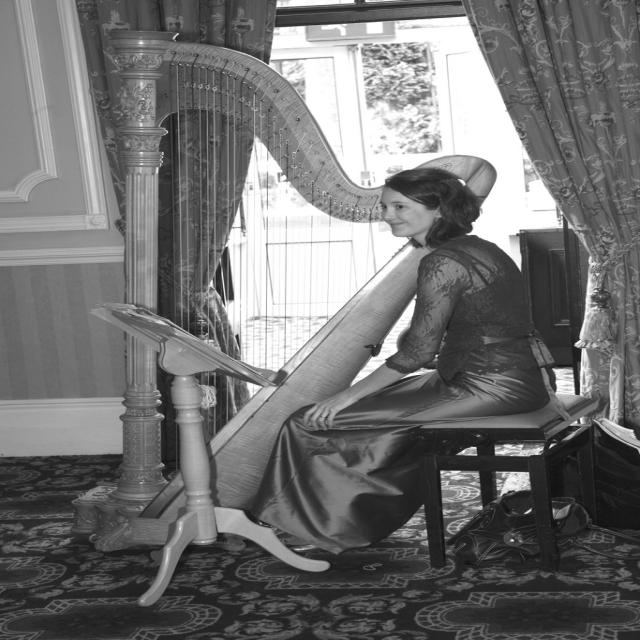harp: (70, 22, 492, 566)
